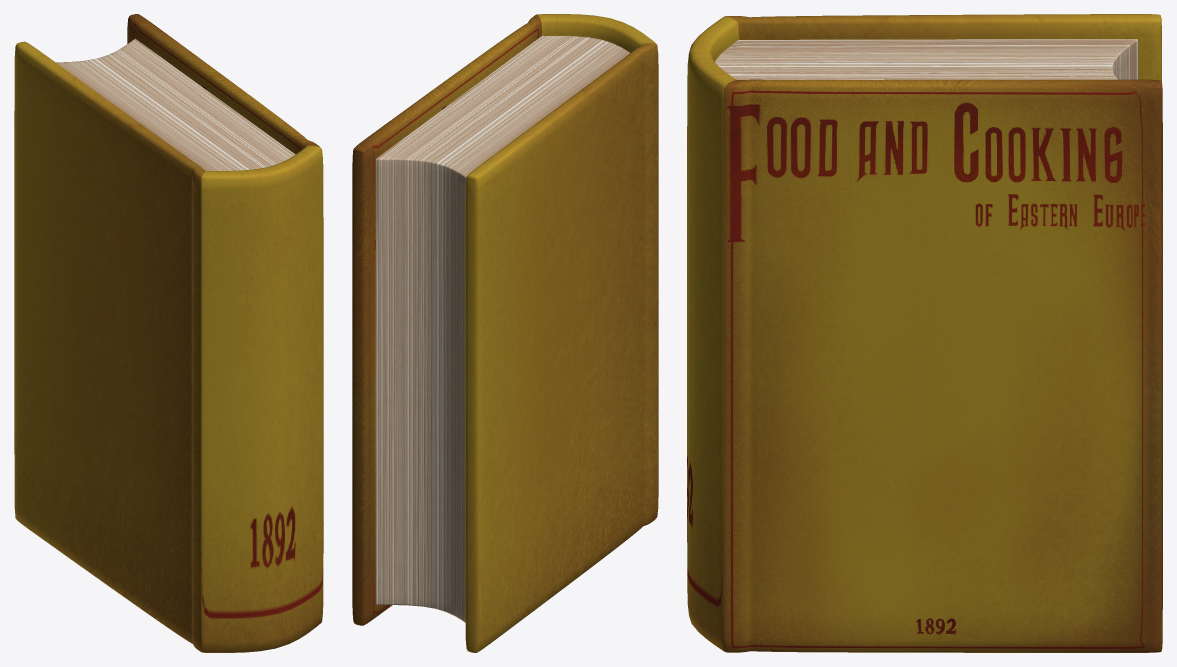
File: book-5.glb
The picture shows the model from 3 angles, left to right: view 1: azimuth 30°, elevation 25°; view 2: azimuth 150°, elevation 25°; view 3: azimuth 270°, elevation 25°; orthographic projection. The views are drawn at different scales.
Visible parts, largest first — view 1: Food and cooking of eastern europe, Book Pages.005; view 2: Food and cooking of eastern europe, Book Pages.005; view 3: Food and cooking of eastern europe, Book Pages.005.
Boxes of the visible parts, <box> form: Food and cooking of eastern europe: <box>14,14,323,652</box>; Book Pages.005: <box>56,38,295,170</box>; Food and cooking of eastern europe: <box>352,14,658,652</box>; Book Pages.005: <box>376,36,629,622</box>; Food and cooking of eastern europe: <box>687,14,1162,652</box>; Book Pages.005: <box>715,39,1137,79</box>.
Size of the model in its own units: 0.2944 by 1.05 by 0.793.
Materials: 2 (2 with a texture image).
